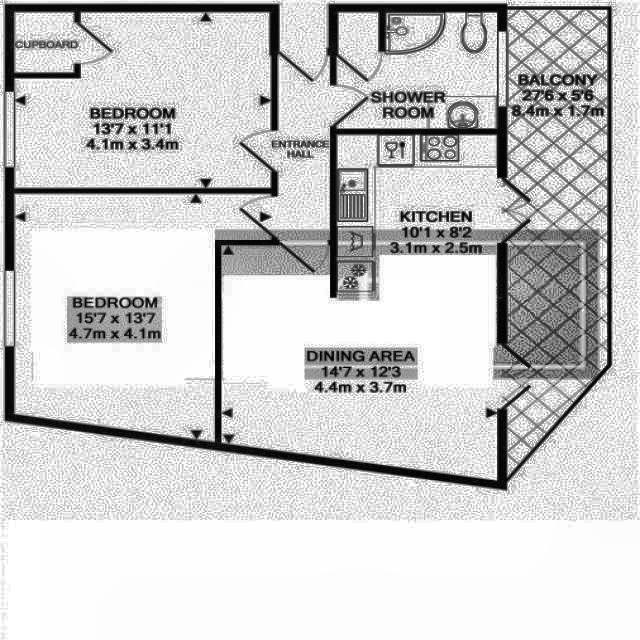room: (221, 134, 497, 481), (13, 193, 272, 443), (507, 9, 609, 478), (13, 11, 272, 189), (336, 12, 497, 129), (280, 48, 330, 242), (14, 12, 74, 72)
